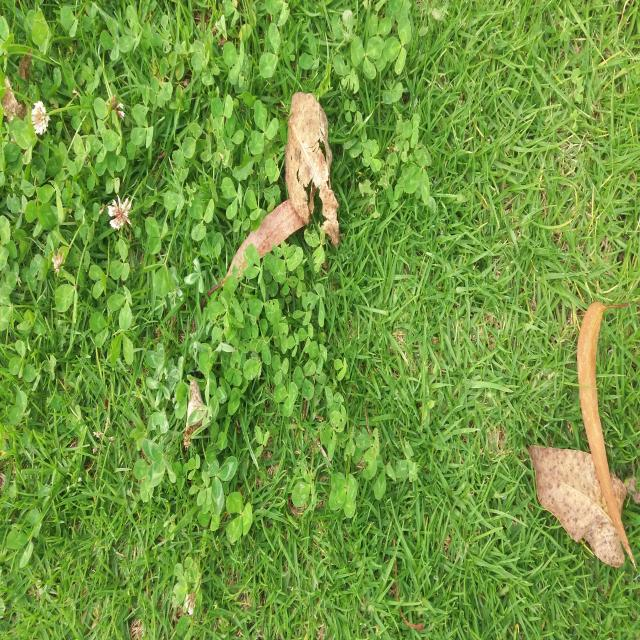Four Leaf Clover: (328, 472, 357, 518)
